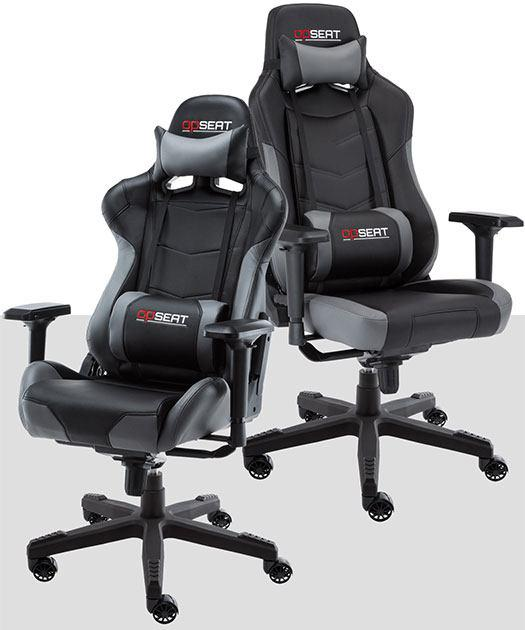chair: (5, 89, 314, 627), (242, 2, 523, 536)
